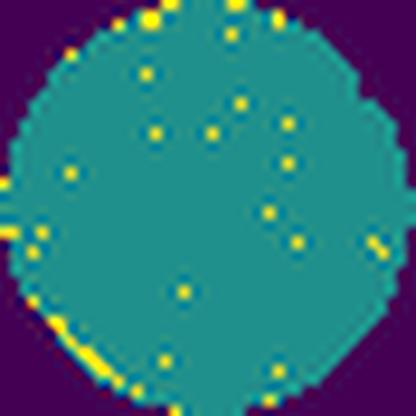Edge-Loc: (37, 310, 128, 396)
